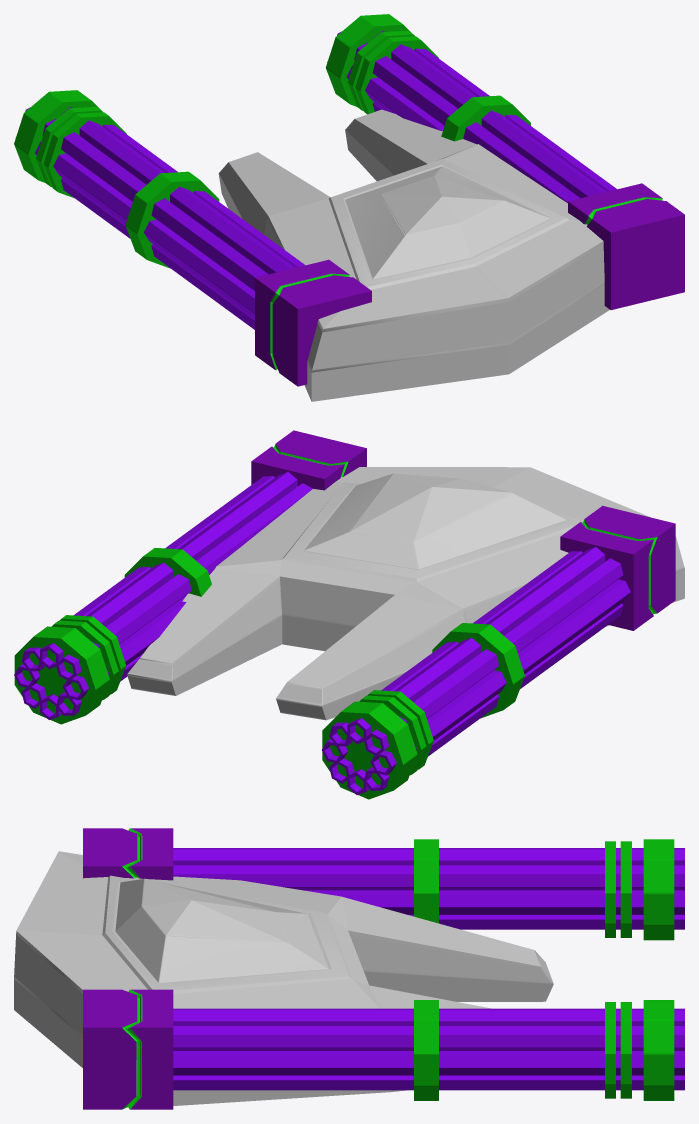
File: Minigun_Mech (4).FBX
3 views of the same model, one above another, from view 1: azimuth 30°, elevation 25°; view 2: azimuth 150°, elevation 25°; view 3: azimuth 270°, elevation 25° (orthographic). The views are drawn at different scales.
Visible parts, largest first — view 1: Tank_Body, Box001, Box002, Tube023, Tube026, Tube001, Tube029, Tube021, Cylinder049, Cylinder002, Cylinder047, Tube025 (+8 smaller); view 2: Tank_Body, Box002, Tube023, Tube026, Tube001, Tube029, Cylinder002, Cylinder047, Tube021, Box001, Cylinder049, Tube025 (+8 smaller); view 3: Tank_Body, Box001, Tube020, Tube018, Tube024, Tube029, Tube001, Tube022, Tube027, Box002, Cylinder047, Cylinder002 (+9 smaller).
Part boxes in pixels (x1,y1,x2,y2): Tank_Body: (218,109,609,401); Box001: (568,183,684,309); Box002: (255,259,371,386); Tube023: (25,107,268,291); Tube026: (15,138,254,318); Tube001: (373,31,606,198); Tube029: (61,107,294,274); Tube021: (337,31,579,202); Cylinder049: (125,171,219,268); Cylinder002: (325,14,411,106); Cylinder047: (14,90,100,182); Tube025: (61,178,254,329); Tank_Body: (127,467,684,720); Box002: (560,505,675,630); Tube023: (363,558,623,755); Tube026: (370,579,630,775); Tube001: (40,472,297,668); Tube029: (347,547,605,743); Cylinder002: (14,626,109,724); Cylinder047: (322,701,417,799); Tube021: (56,483,312,680); Box001: (251,430,366,490); Cylinder049: (432,623,524,718); Tube025: (364,603,623,790); Tank_Body: (14,851,553,1105); Box001: (83,989,173,1109); Tube020: (173,1026,684,1050); Tube018: (173,1051,684,1075); Tube024: (173,865,684,890); Tube029: (173,849,684,865); Tube001: (173,1010,684,1025); Tube022: (173,1075,684,1090); Tube027: (304,890,684,914); Box002: (83,828,173,880); Cylinder047: (643,839,674,940); Cylinder002: (643,1000,674,1100).
Size of the model in its own units: 88.96 by 24.24 by 124.
